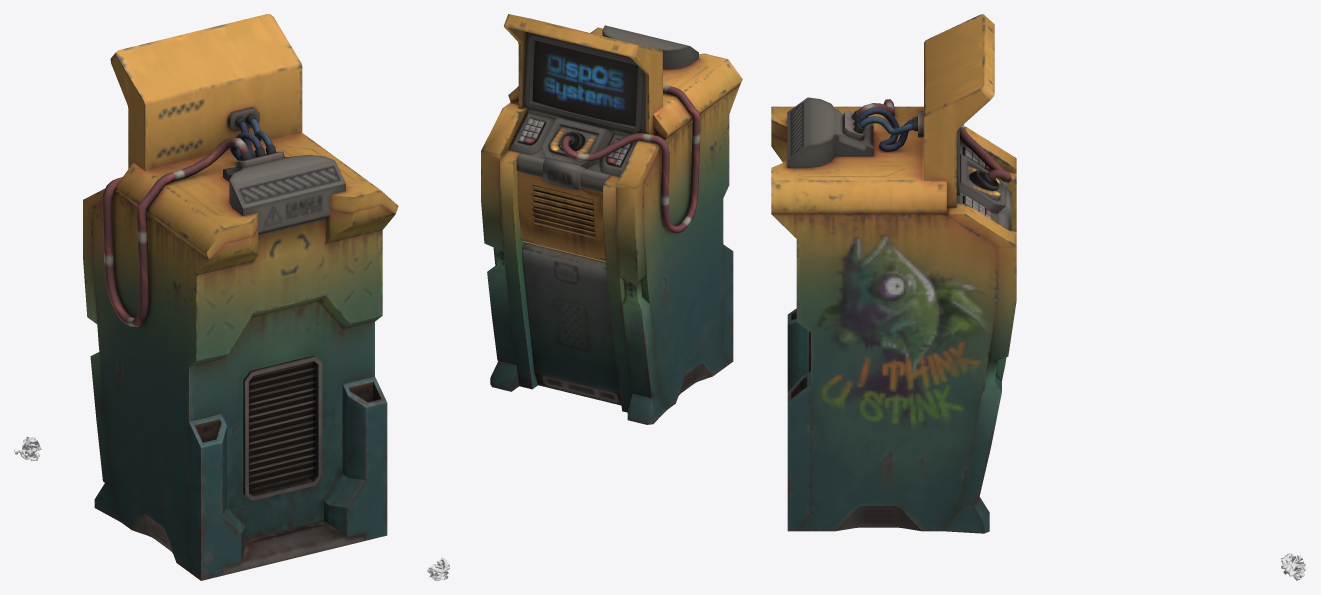
The model's file is sci-fi-trash-bin--dispos-systems-53803d.glb.
3 views of the same model, side by side, from view 1: azimuth 30°, elevation 25°; view 2: azimuth 150°, elevation 25°; view 3: azimuth 270°, elevation 25° (orthographic). The views are drawn at different scales.
Parts seen in each view (by area): view 1: PropMesh; view 2: PropMesh; view 3: PropMesh.
Boxes of the visible parts, <box> form: PropMesh: <box>14,14,398,580</box>; PropMesh: <box>427,14,742,580</box>; PropMesh: <box>771,14,1306,580</box>.
Size of the model in its own units: 0.4675 by 1.2 by 1.1.
2 materials, 1 textured.
